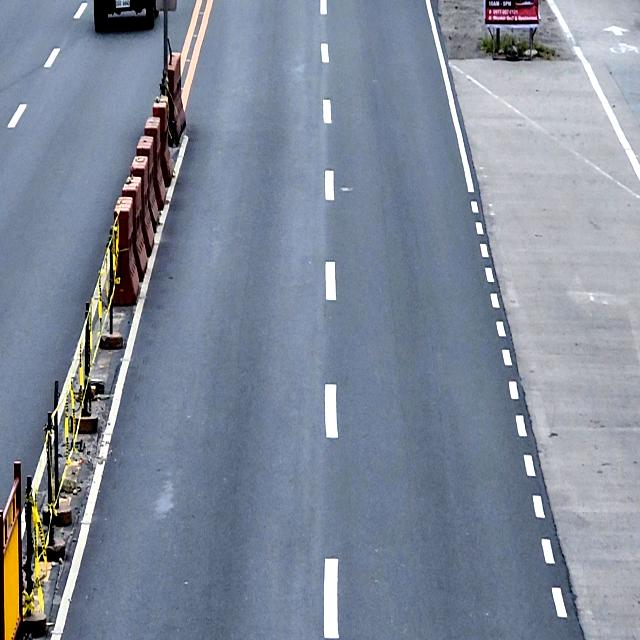License-Plate: (114, 0, 131, 10)
